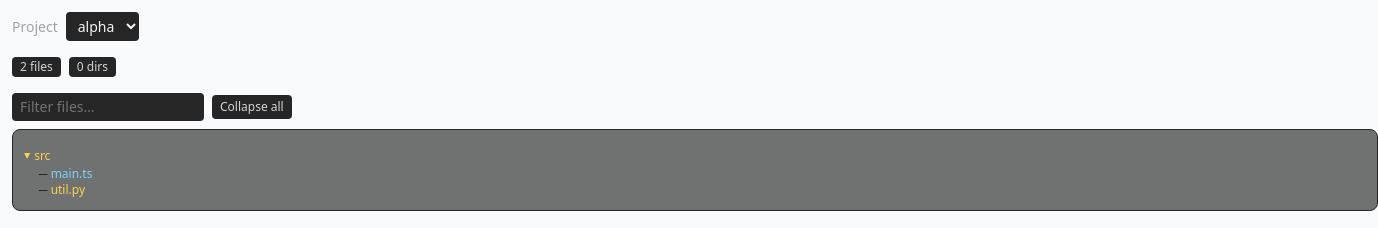
Test: ArchitectureMap › filters the tree by search term
Check: the text "main.ts" is shown, box [51, 165, 92, 182]
Type "main" into the search field with placeholder "Filter files…". click: [108, 107]
box: [12, 93, 204, 121]
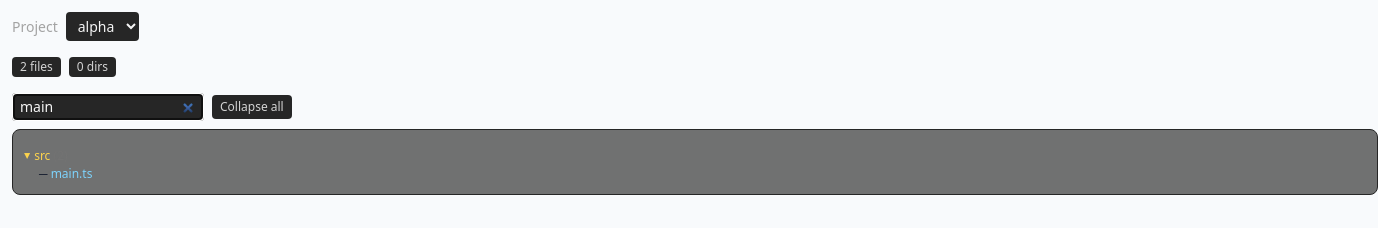
Check: the text "main.ts" is shown, box [51, 165, 92, 182]
Check: the text "util.py" is gone
Clear the search field with placeholder "Filter files…". click: [108, 107]
box: [12, 93, 204, 121]
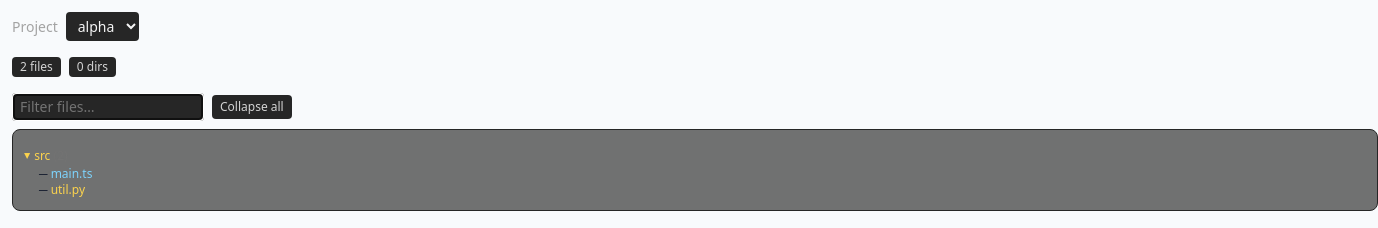
Check: the text "util.py" is shown, box [51, 181, 85, 198]
